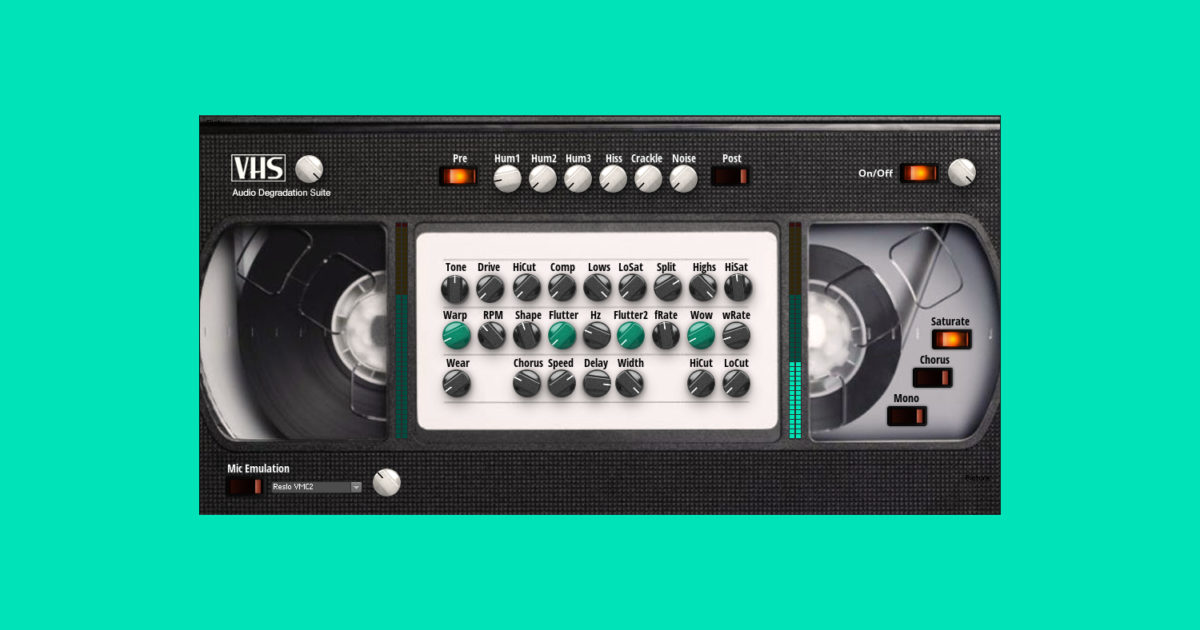Nonrec_Other: (138, 92, 1045, 546)
